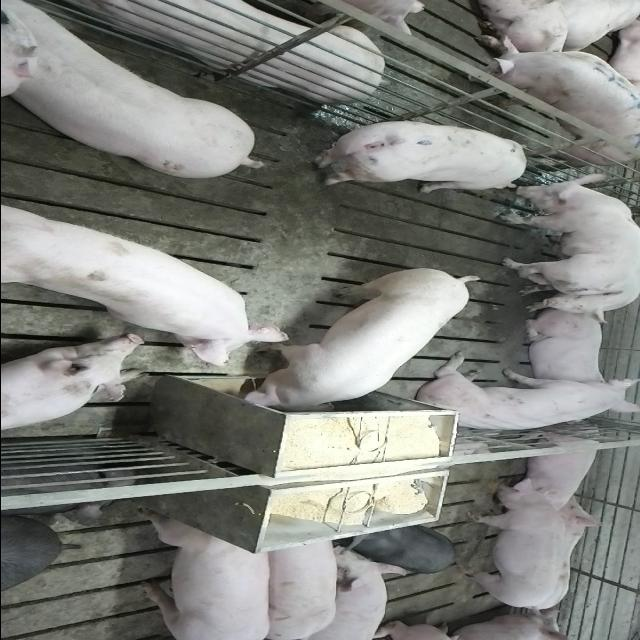Feeding: (6, 198, 290, 370), (234, 271, 479, 421)
Sitting: (412, 356, 636, 436), (495, 204, 638, 304)
Standing: (6, 5, 268, 184), (446, 30, 640, 164), (302, 118, 530, 196), (131, 512, 271, 638), (456, 482, 562, 612), (290, 542, 404, 636), (266, 531, 336, 639)
Sternal_lying: (48, 0, 413, 100), (0, 336, 146, 437), (508, 429, 604, 508), (516, 310, 608, 386)
